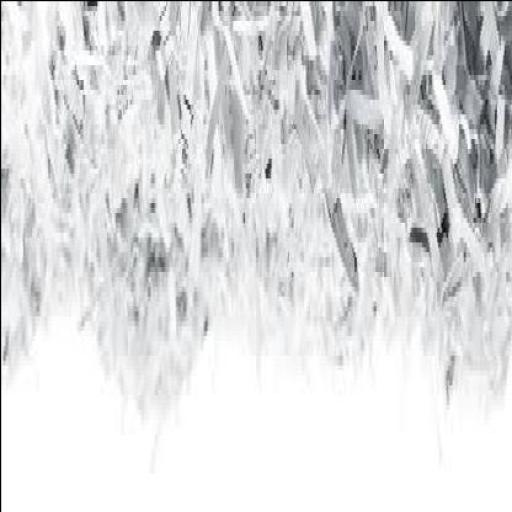paper: (1, 5, 511, 434)
